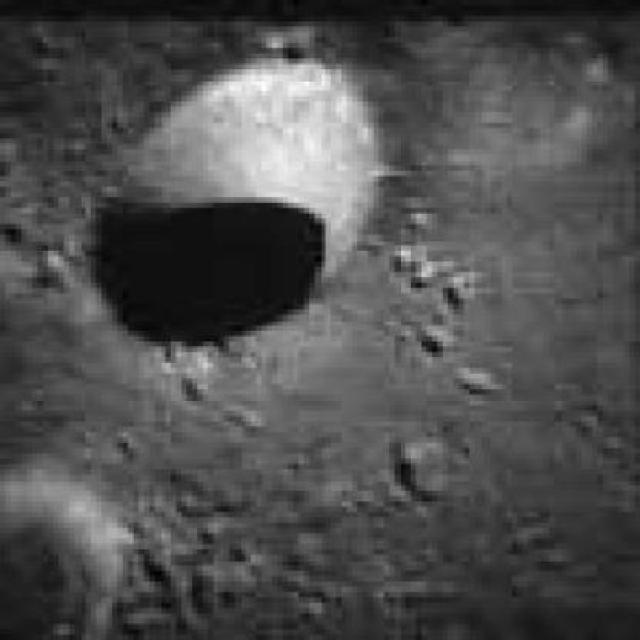crater: (86, 55, 379, 351), (0, 471, 128, 638)
